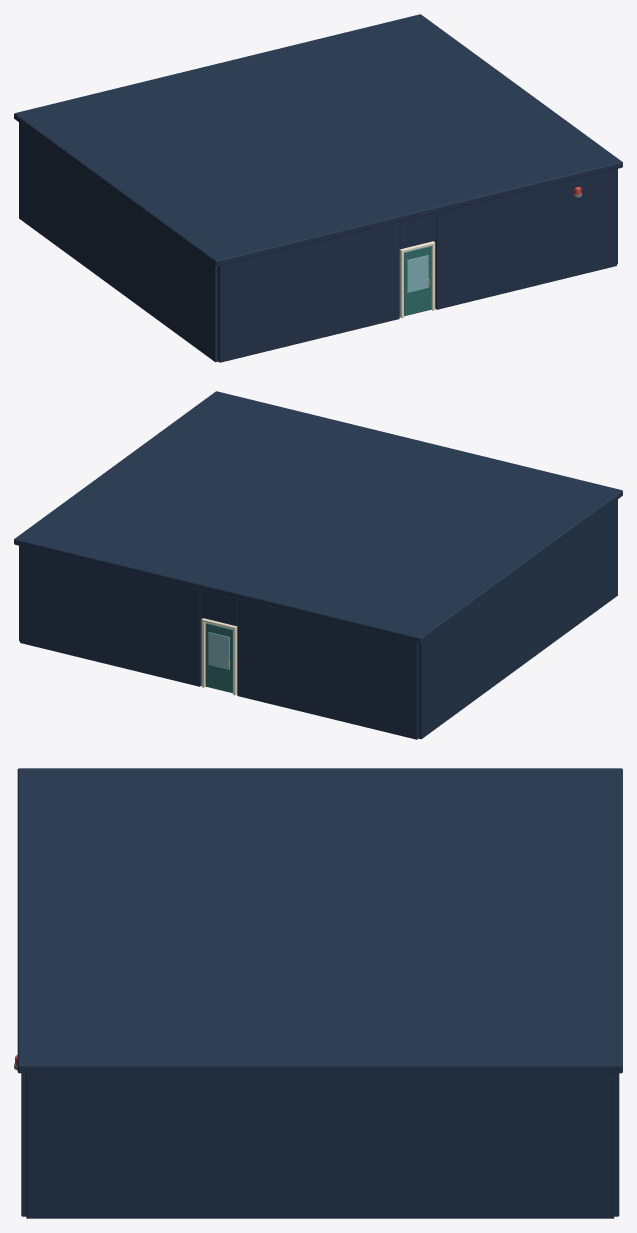
Rendered from Interior_PoliceStation.fbx.
3 views of the same model, one above another, from view 1: azimuth 30°, elevation 25°; view 2: azimuth 150°, elevation 25°; view 3: azimuth 270°, elevation 25° (orthographic). The views are drawn at different scales.
Parts seen in each view (by area): view 1: Roof_Removable.006, WallLeft.006, WallSegment.024, WallSegment.025, Entrance_Door.007, DoorHeader.012, Entrance_Glass.007; view 2: Roof_Removable.006, WallLeft.006, WallSegment.026, WallSegment.027, RearExit_Door.007, DoorHeader.013, RearExit_Glass.007; view 3: Roof_Removable.006, WallRight.006, WallSegment.025, WallSegment.027.
Part boxes in pixels (x1=…): Roof_Removable.006: x1=14, y1=14, x2=622, y2=266; WallLeft.006: x1=19, y1=122, x2=217, y2=362; WallSegment.024: x1=218, y1=222, x2=399, y2=362; WallSegment.025: x1=434, y1=169, x2=616, y2=309; Entrance_Door.007: x1=404, y1=246, x2=431, y2=316; DoorHeader.012: x1=399, y1=213, x2=436, y2=249; Entrance_Glass.007: x1=407, y1=255, x2=428, y2=292; Roof_Removable.006: x1=14, y1=391, x2=622, y2=643; WallLeft.006: x1=419, y1=499, x2=617, y2=739; WallSegment.026: x1=237, y1=599, x2=418, y2=739; WallSegment.027: x1=20, y1=546, x2=202, y2=686; RearExit_Door.007: x1=205, y1=623, x2=232, y2=693; DoorHeader.013: x1=200, y1=590, x2=237, y2=626; RearExit_Glass.007: x1=208, y1=632, x2=229, y2=669; Roof_Removable.006: x1=17, y1=768, x2=622, y2=1073; WallRight.006: x1=26, y1=1073, x2=614, y2=1218; WallSegment.025: x1=21, y1=1073, x2=26, y2=1216; WallSegment.027: x1=614, y1=1073, x2=619, y2=1216.
Size of the model in its own units: 14.35 by 3.5 by 12.43.
